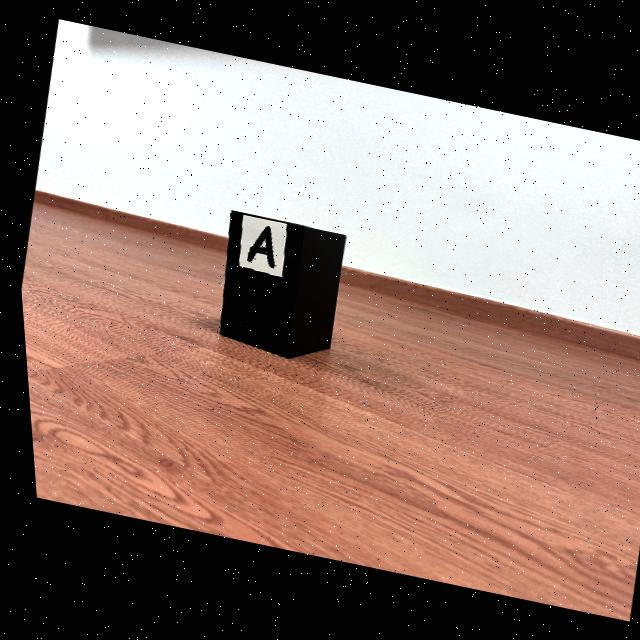A: (243, 227, 271, 267)
